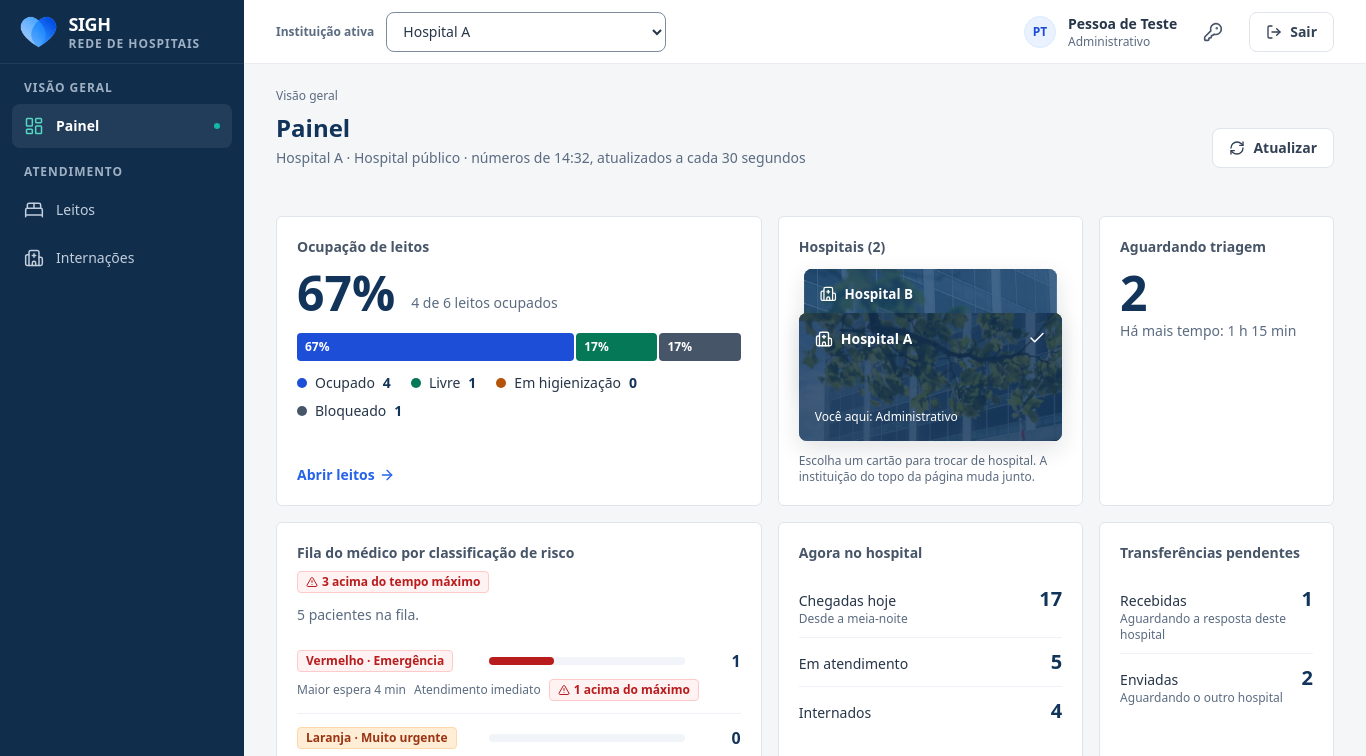
Test: FE-09: painel por hospital › escolher outro cartão troca a instituição ativa e os números, sem mostrar os do hospital anterior
Expected: the text "67%" next to "4 de 6 leitos ocupados" is shown, [297, 260, 395, 325]
Expected: the radio button labelled "Hospital A Você aqui: Administrativo" is checked, [799, 313, 1062, 441]
Click the radio button labelled "Hospital B Você aqui: Administrativo": click(930, 330) [804, 269, 1057, 392]
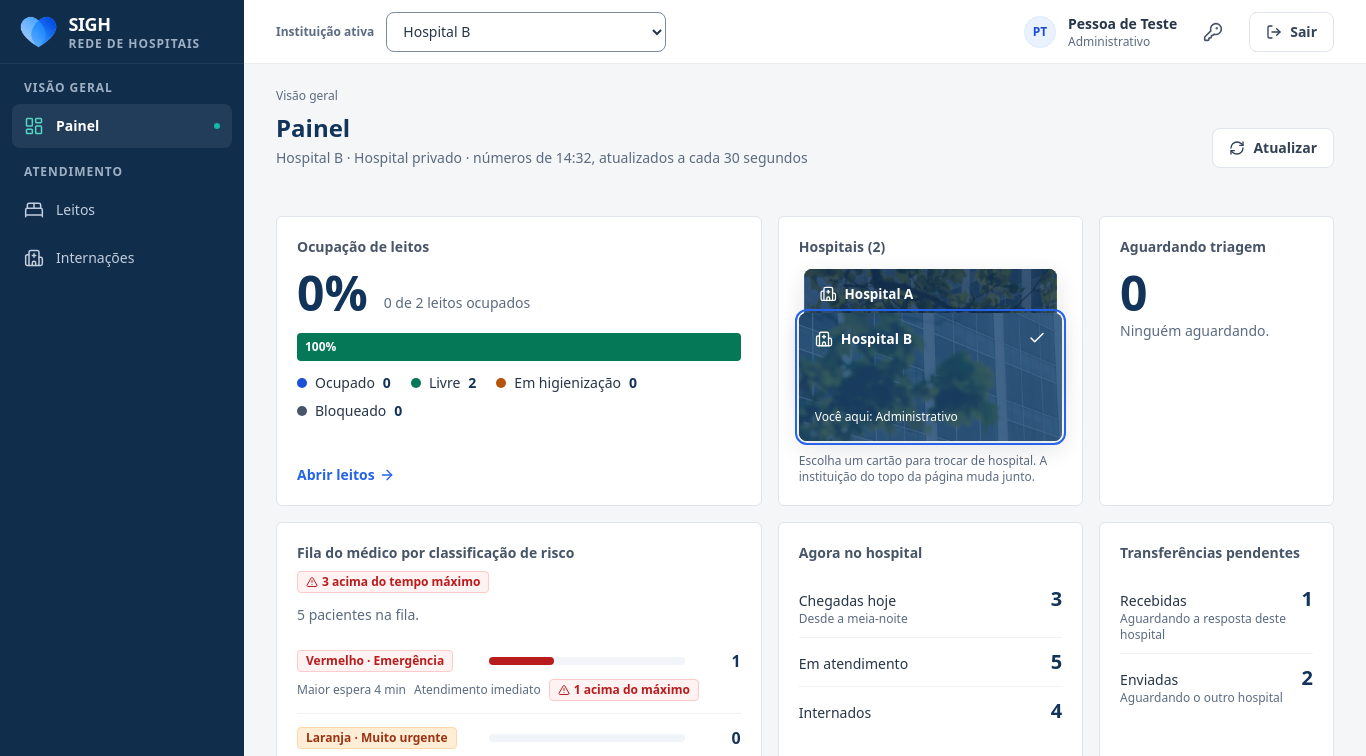
Now the radio button labelled "Hospital B Você aqui: Administrativo" is checked, box [799, 313, 1062, 441]
Now the dropdown labelled "Instituição ativa" shows "Hospital B", box [386, 12, 666, 52]
Now the text "Chegadas hoje" shows "3", box [1051, 585, 1062, 612]
